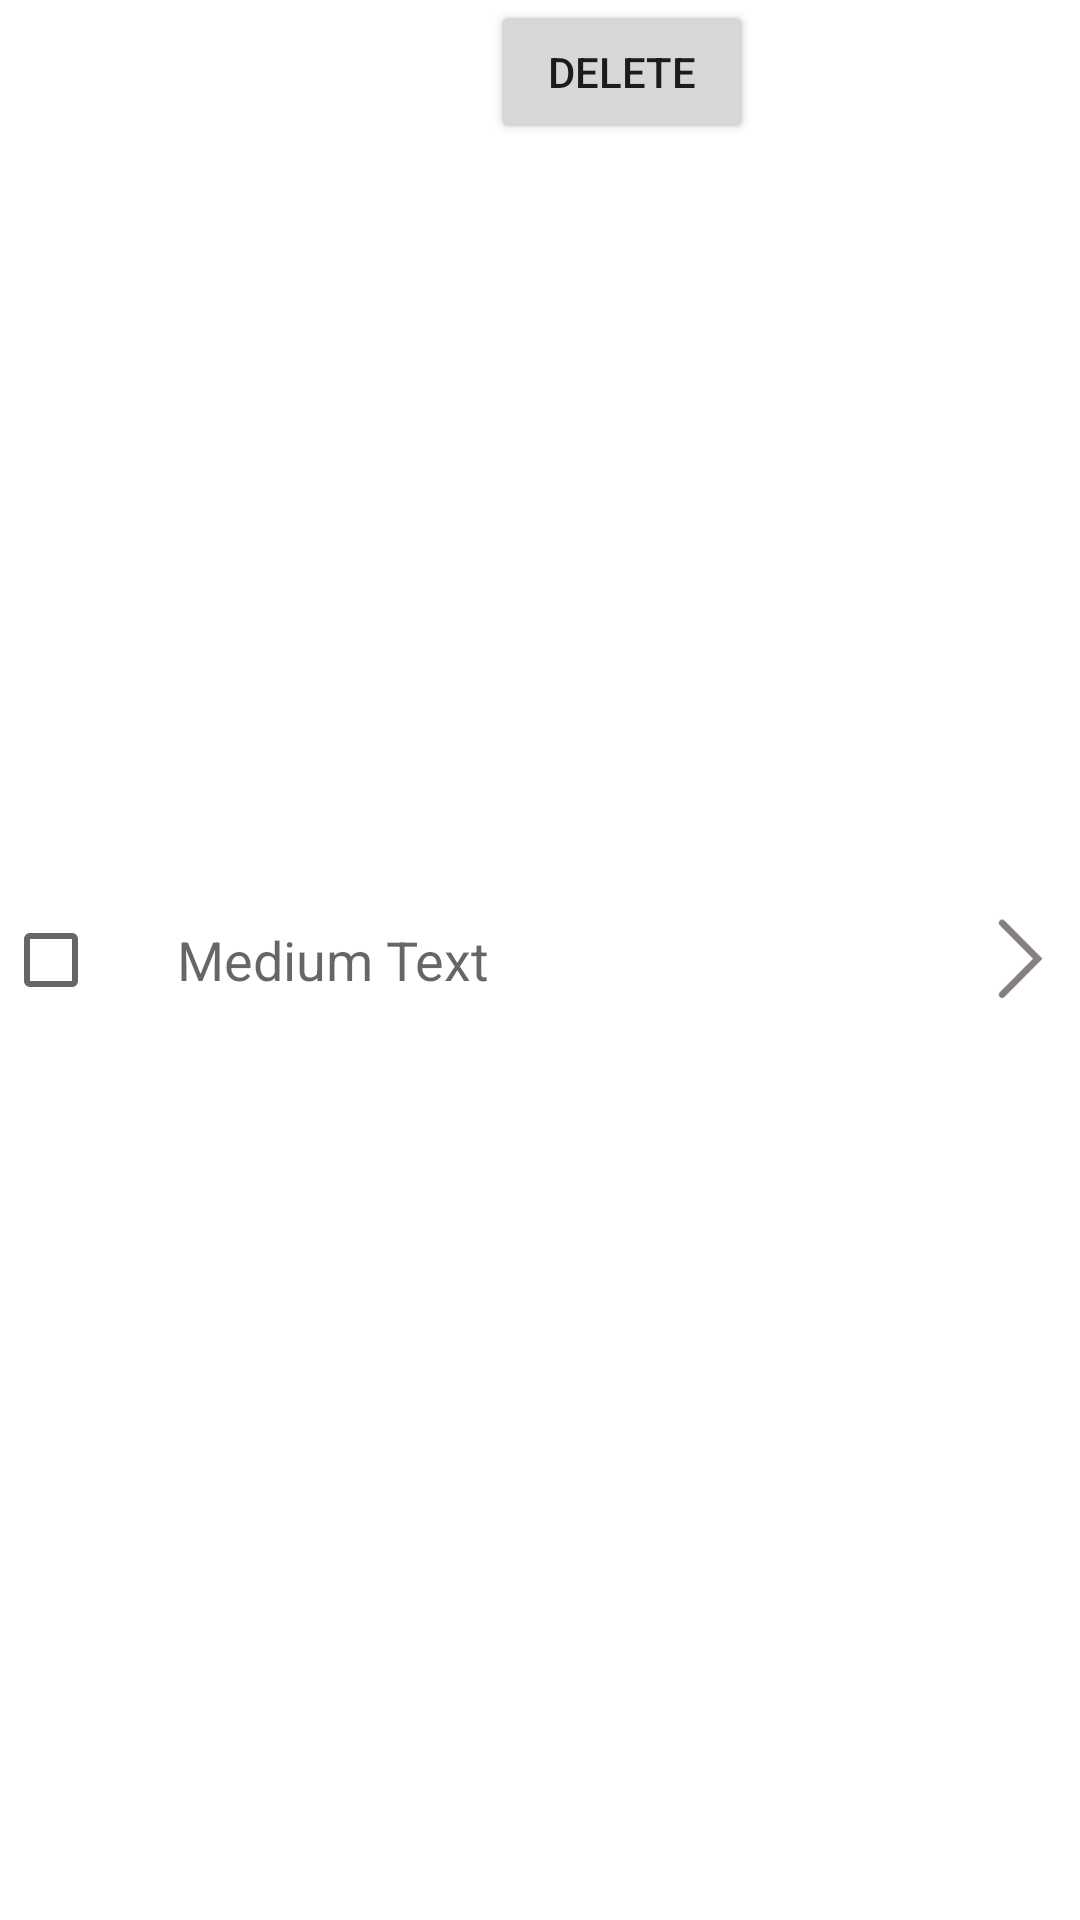

Screen size 1080 x 1920. Icon name, then its center in pixels as point (x, y):
right arrow: point (1020, 958)
